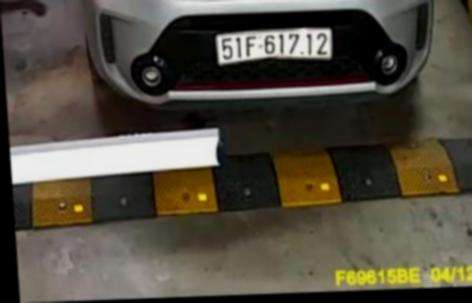License_Plate: (204, 24, 342, 74)
